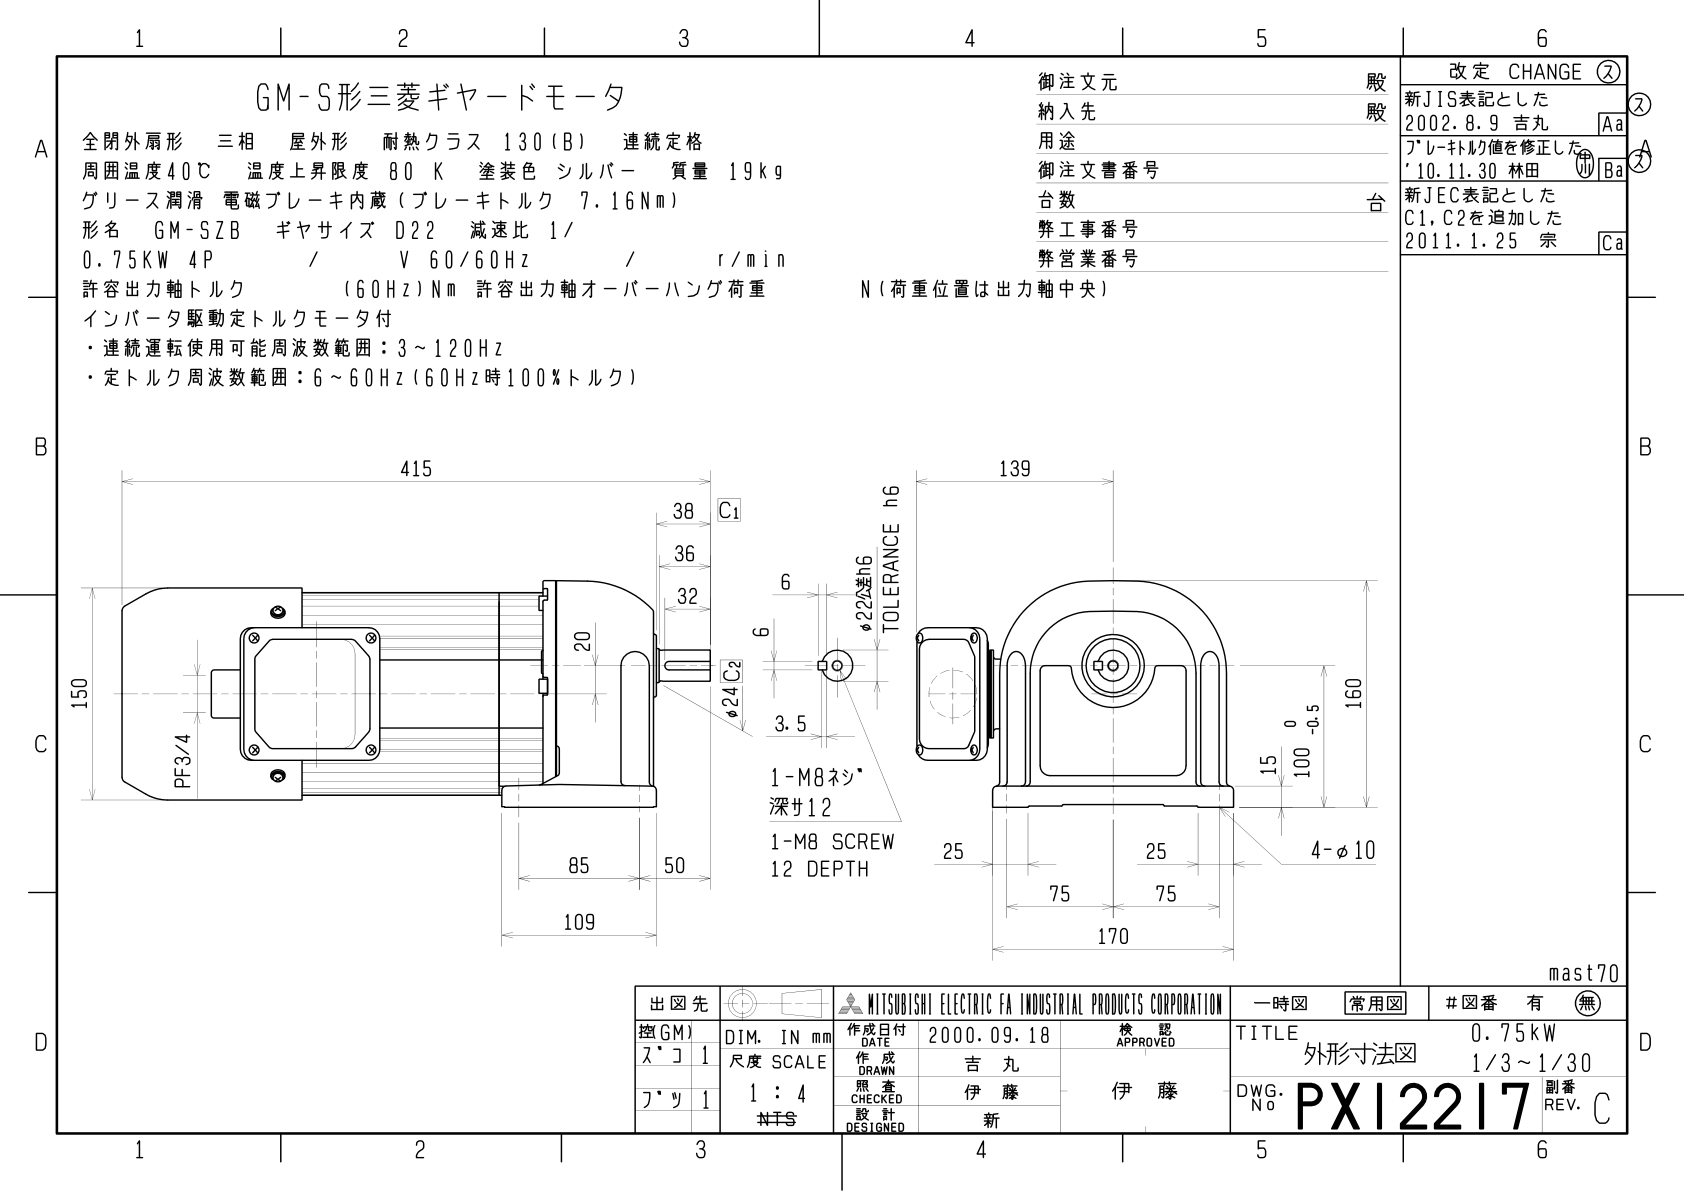GM_S_インバタ屋外＿三相_脚: (63, 424, 1392, 974)
